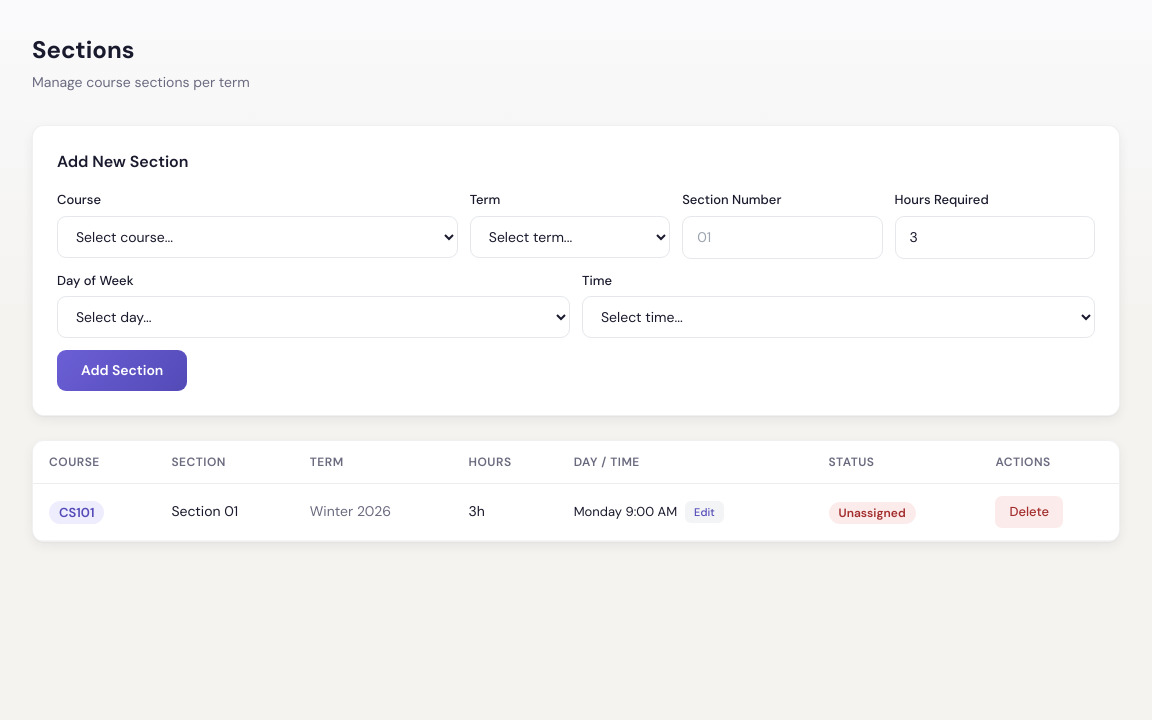
Test case: AdminSections › cancels an edit without saving
Click the button "Edit" at (704, 512), box [685,500,724,523]
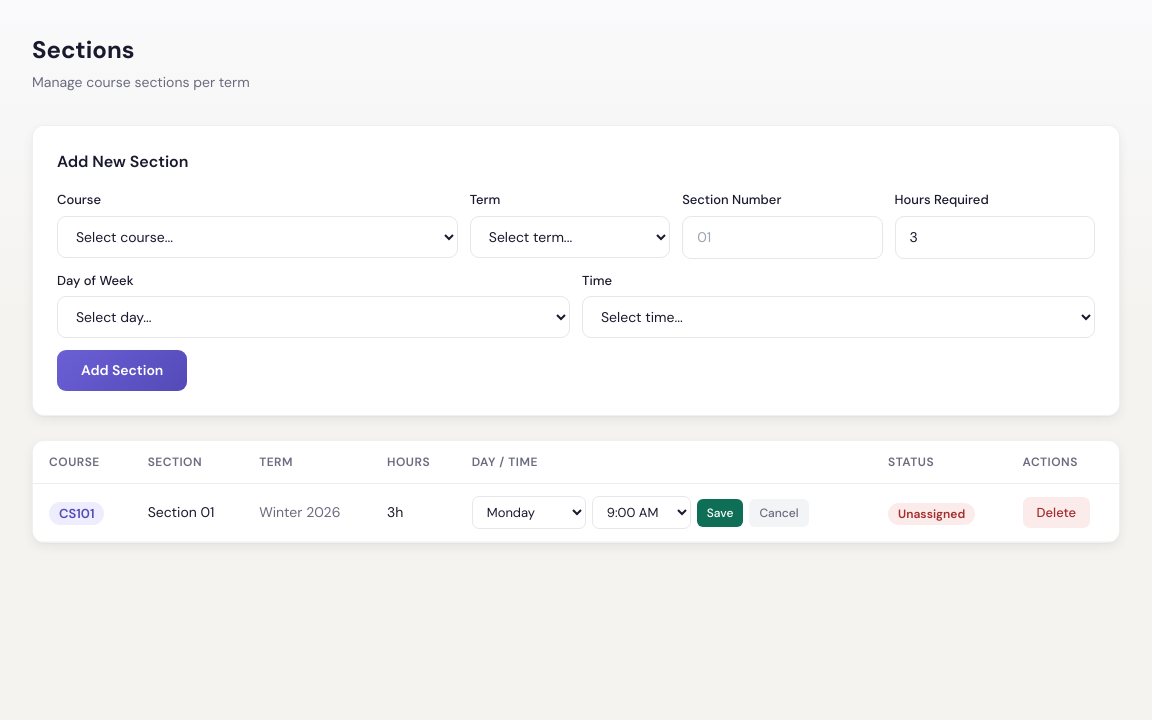
Click the button "Cancel" at (779, 512), box [749,498,809,526]
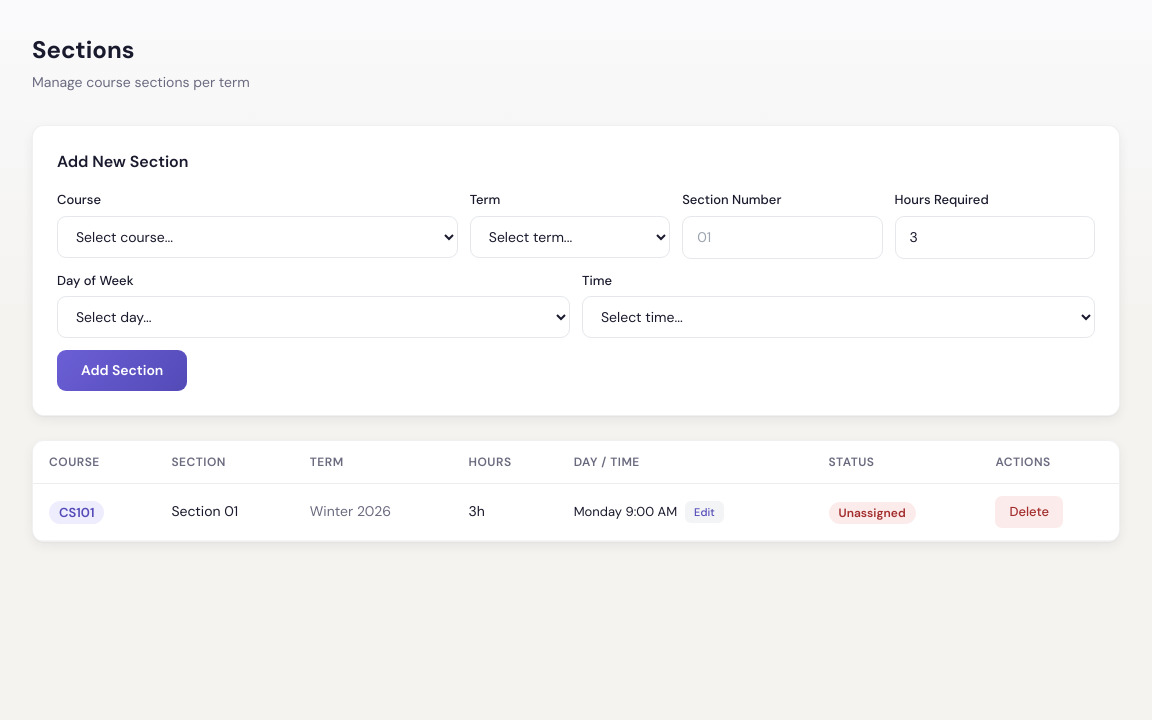
Now the text "Monday 9:00 AM" is shown, box [574,502,677,522]
